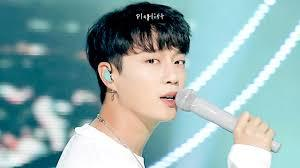earphone: (103, 69, 115, 82)
